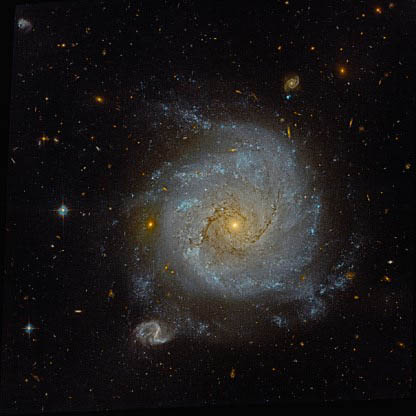NGC 1309: (46, 54, 372, 360)
